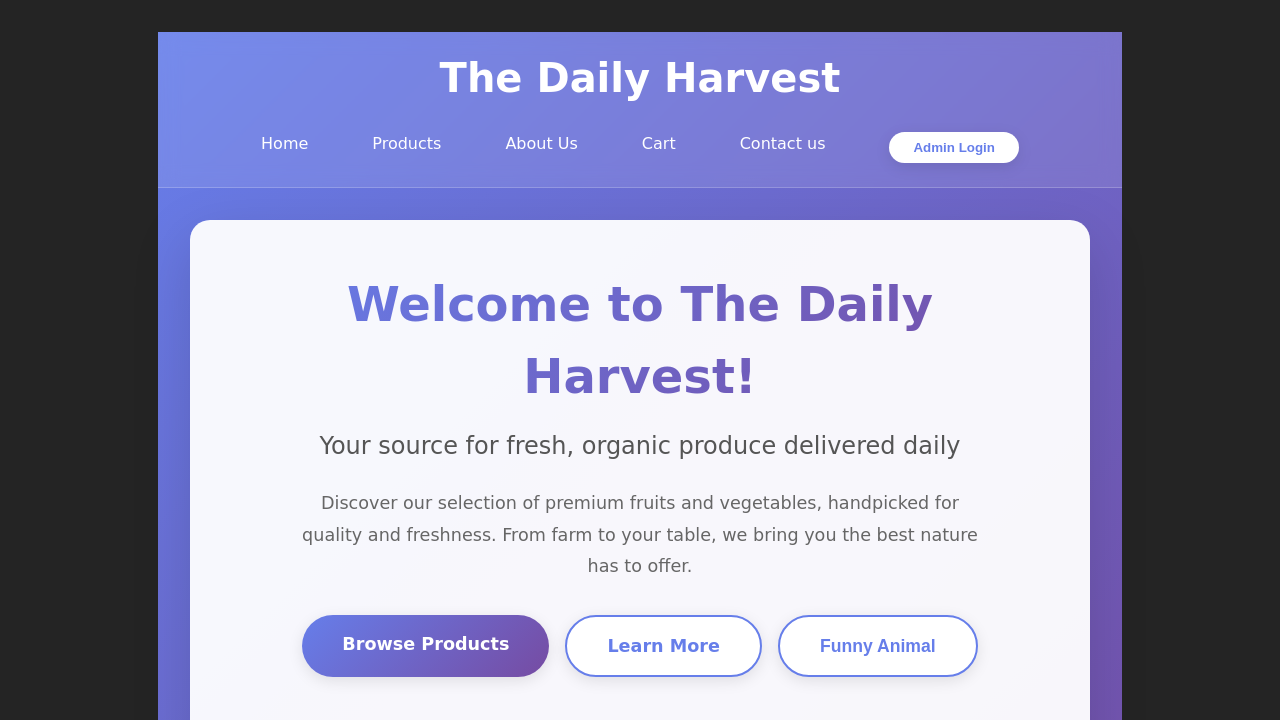
Test: HomePage › should show loading state when fetching image
This screenshot has width=1280, height=720.
Click the button "Funny Animal".
click(878, 646)  # box [778,615,978,677]
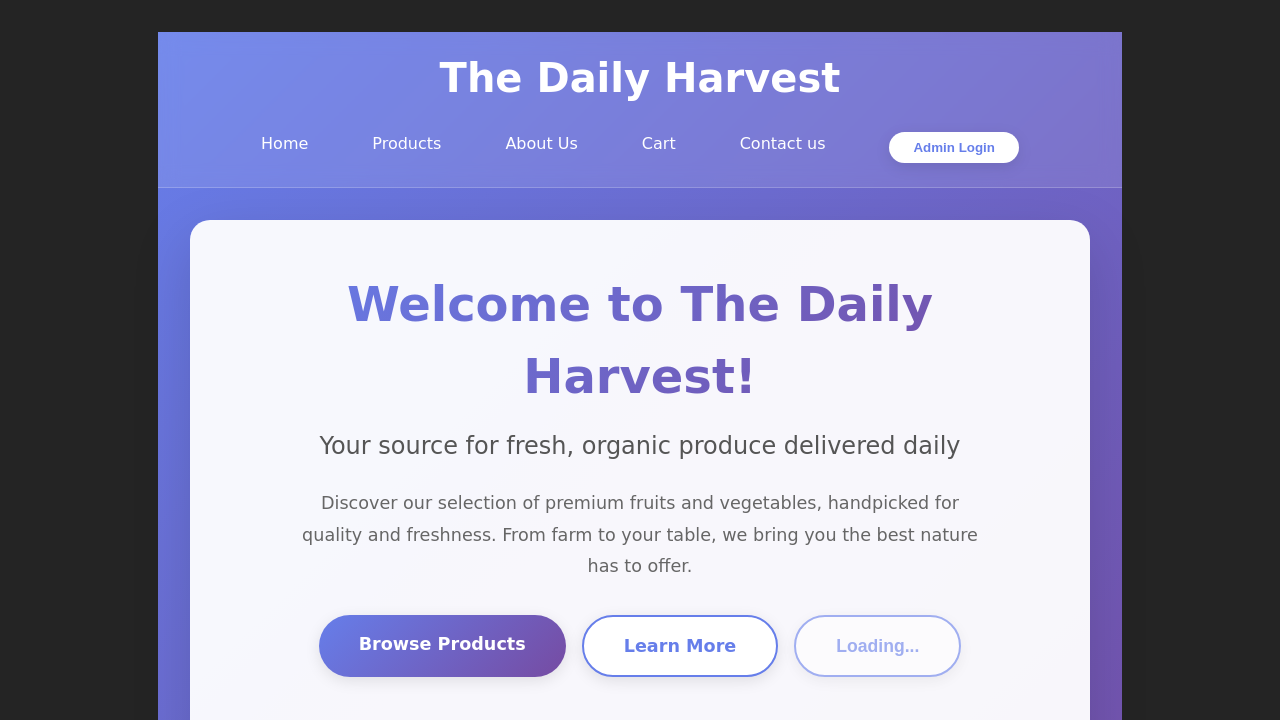
Expected: the button "Loading..." is disabled, [794,615,961,677]
